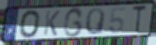5: (108, 6, 127, 35)
G: (62, 6, 85, 39)
K: (42, 9, 62, 37)
O: (19, 9, 42, 39)
Q: (84, 7, 106, 36)
T: (132, 5, 148, 36)
